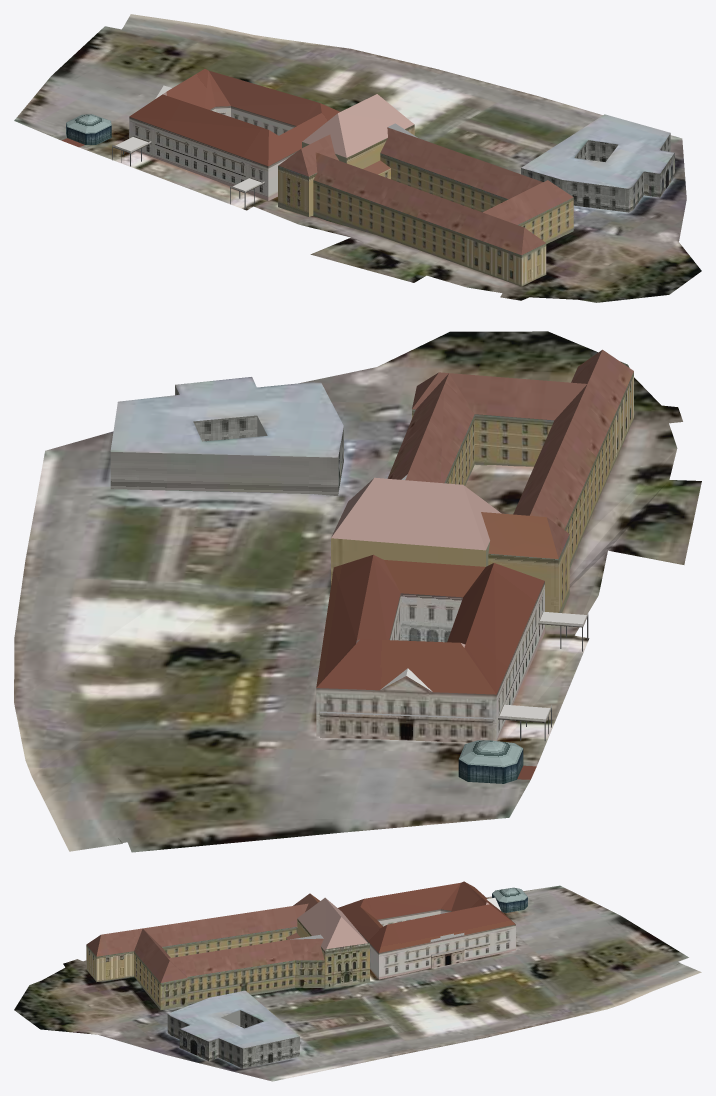
The picture shows the model from 3 angles, top to bottom: view 1: azimuth 30°, elevation 25°; view 2: azimuth 150°, elevation 25°; view 3: azimuth 270°, elevation 25°; orthographic projection. The views are drawn at different scales.
Visible parts, largest first — view 1: node0, node22, node12, node14, node1, node5, node27, node4, node13, node26, node8, node7 (+3 smaller); view 2: node0, node22, node14, node28, node5, node30, node12, node9, node1, node6, node8, node27 (+3 smaller); view 3: node0, node22, node14, node2, node23, node12, node5, node24, node27, node26, node11, node25 (+4 smaller).
Boxes of the visible parts, box(x1,y1,x2,y2) form: node0: box(14, 14, 701, 302); node22: box(278, 127, 573, 255); node12: box(313, 153, 573, 286); node14: box(62, 69, 339, 166); node1: box(112, 117, 268, 200); node5: box(163, 92, 414, 157); node27: box(562, 140, 628, 212); node4: box(210, 106, 298, 200); node13: box(278, 165, 308, 216); node26: box(521, 133, 670, 212); node8: box(309, 124, 414, 216); node7: box(521, 243, 546, 286); node0: box(14, 331, 701, 852); node22: box(387, 349, 633, 558); node14: box(316, 554, 544, 779); node28: box(316, 676, 496, 742); node5: box(331, 477, 501, 647); node30: box(110, 452, 337, 495); node12: box(444, 372, 633, 569); node9: box(331, 538, 489, 584); node1: box(496, 581, 588, 740); node6: box(400, 593, 462, 642); node8: box(488, 553, 558, 612); node27: box(193, 415, 267, 441); node0: box(14, 885, 701, 1081); node22: box(86, 893, 324, 982); node14: box(338, 881, 515, 952); node2: box(379, 924, 515, 979); node23: box(187, 960, 294, 1004); node12: box(134, 927, 296, 1009); node5: box(297, 897, 489, 951); node24: box(325, 943, 369, 988); node27: box(221, 1010, 299, 1068); node26: box(167, 1014, 242, 1068); node11: box(96, 951, 133, 981); node25: box(295, 960, 324, 987).
Size of the model in its own units: 1.17 by 0.1899 by 1.78.
Materials: 31 (25 with a texture image).
